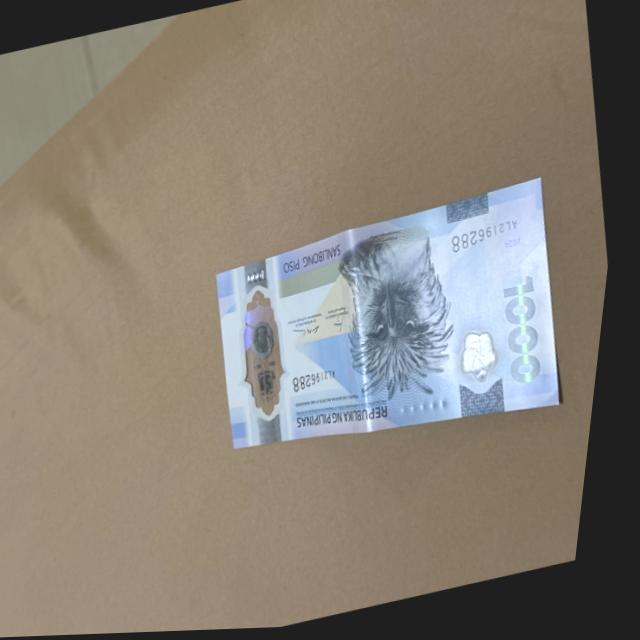clear_window: (231, 285, 312, 430)
eagle: (339, 232, 473, 412)
sampaguita: (456, 329, 514, 395)
